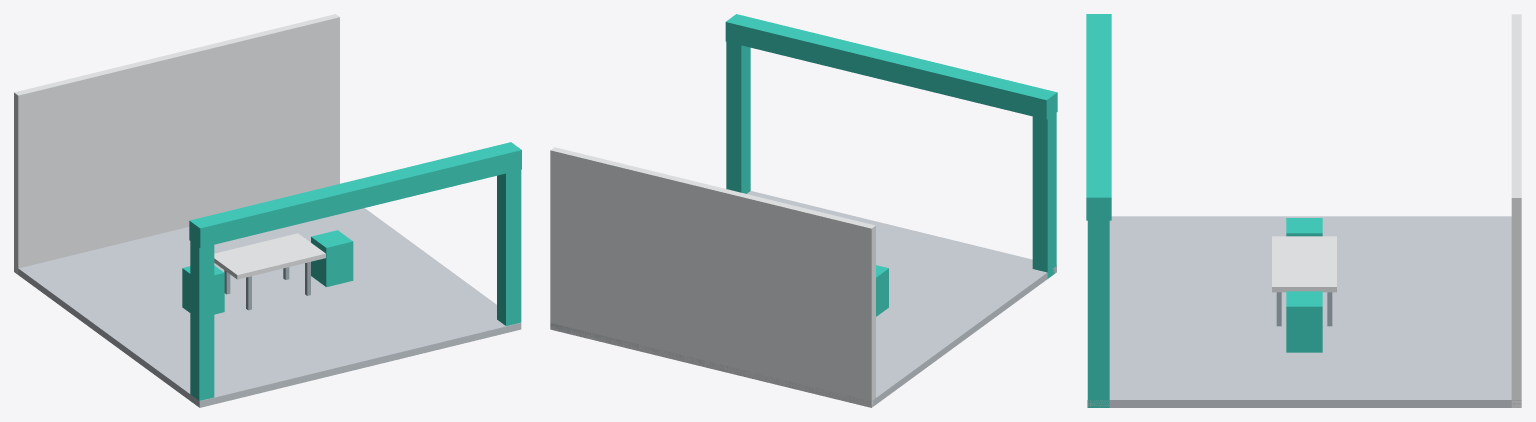
3 views of the same model, side by side, from view 1: azimuth 30°, elevation 25°; view 2: azimuth 150°, elevation 25°; view 3: azimuth 270°, elevation 25° (orthographic). The views are drawn at different scales.
Parts seen in each view (by area): view 1: Exhibition Booth Concept; view 2: Exhibition Booth Concept; view 3: Exhibition Booth Concept.
Boxes of the visible parts, x1,y1,x2,y2 form: Exhibition Booth Concept: [14, 14, 521, 407]; Exhibition Booth Concept: [550, 14, 1057, 407]; Exhibition Booth Concept: [1086, 14, 1521, 407].
Size of the model in its own units: 6 by 3.2 by 6.02.
